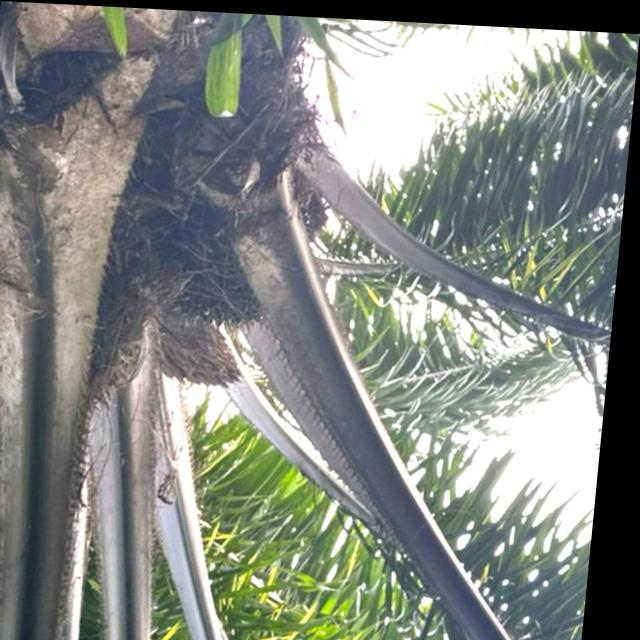unripe: (155, 199, 293, 342)
